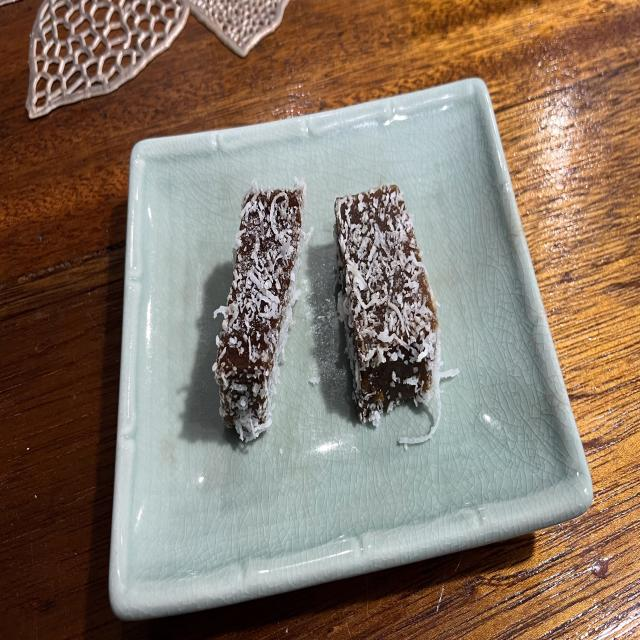kaswi: (335, 184, 454, 442), (212, 180, 305, 442)
